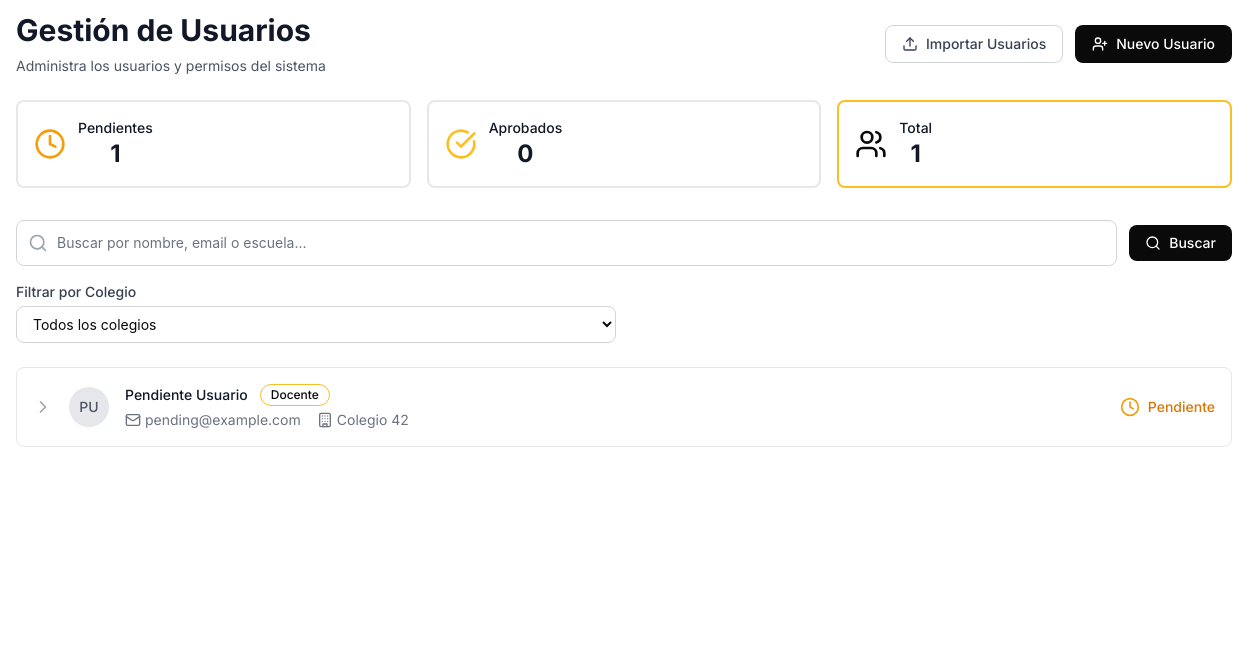
Test case: UnifiedUserManagement — ED-scoped props › default (no hide props): pending user shows Aprobar and Rechazar buttons
The image size is (1249, 659).
Click the heading "Pendiente Usuario" at (186, 395), box x1=125 y1=385 x2=248 y2=405
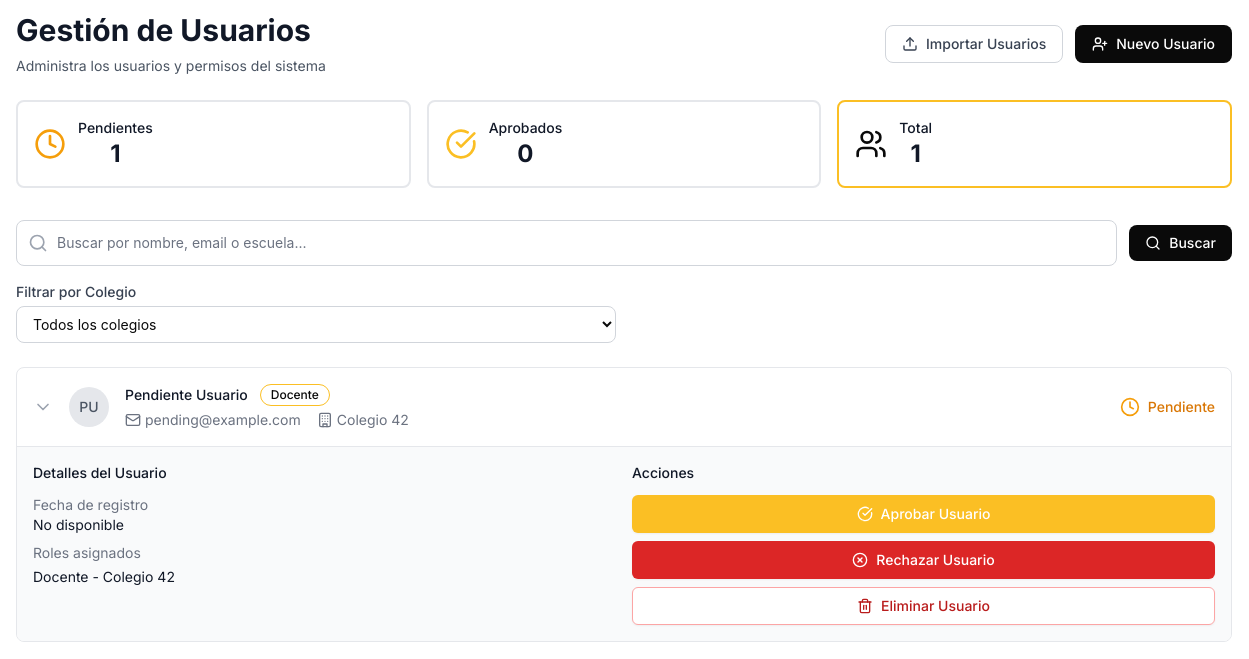
Expected: the button "Aprobar Usuario" is shown, x1=632 y1=495 x2=1215 y2=533
Expected: the button "Rechazar Usuario" is shown, x1=632 y1=541 x2=1215 y2=579
